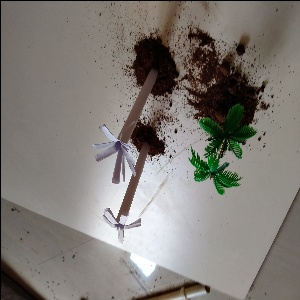plant: (190, 103, 259, 209)
weed: (95, 173, 159, 258), (80, 94, 141, 182)
